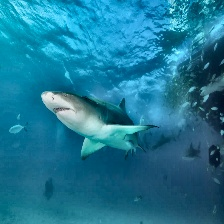shark: (40, 90, 160, 160), (40, 91, 160, 161), (208, 145, 221, 167)
